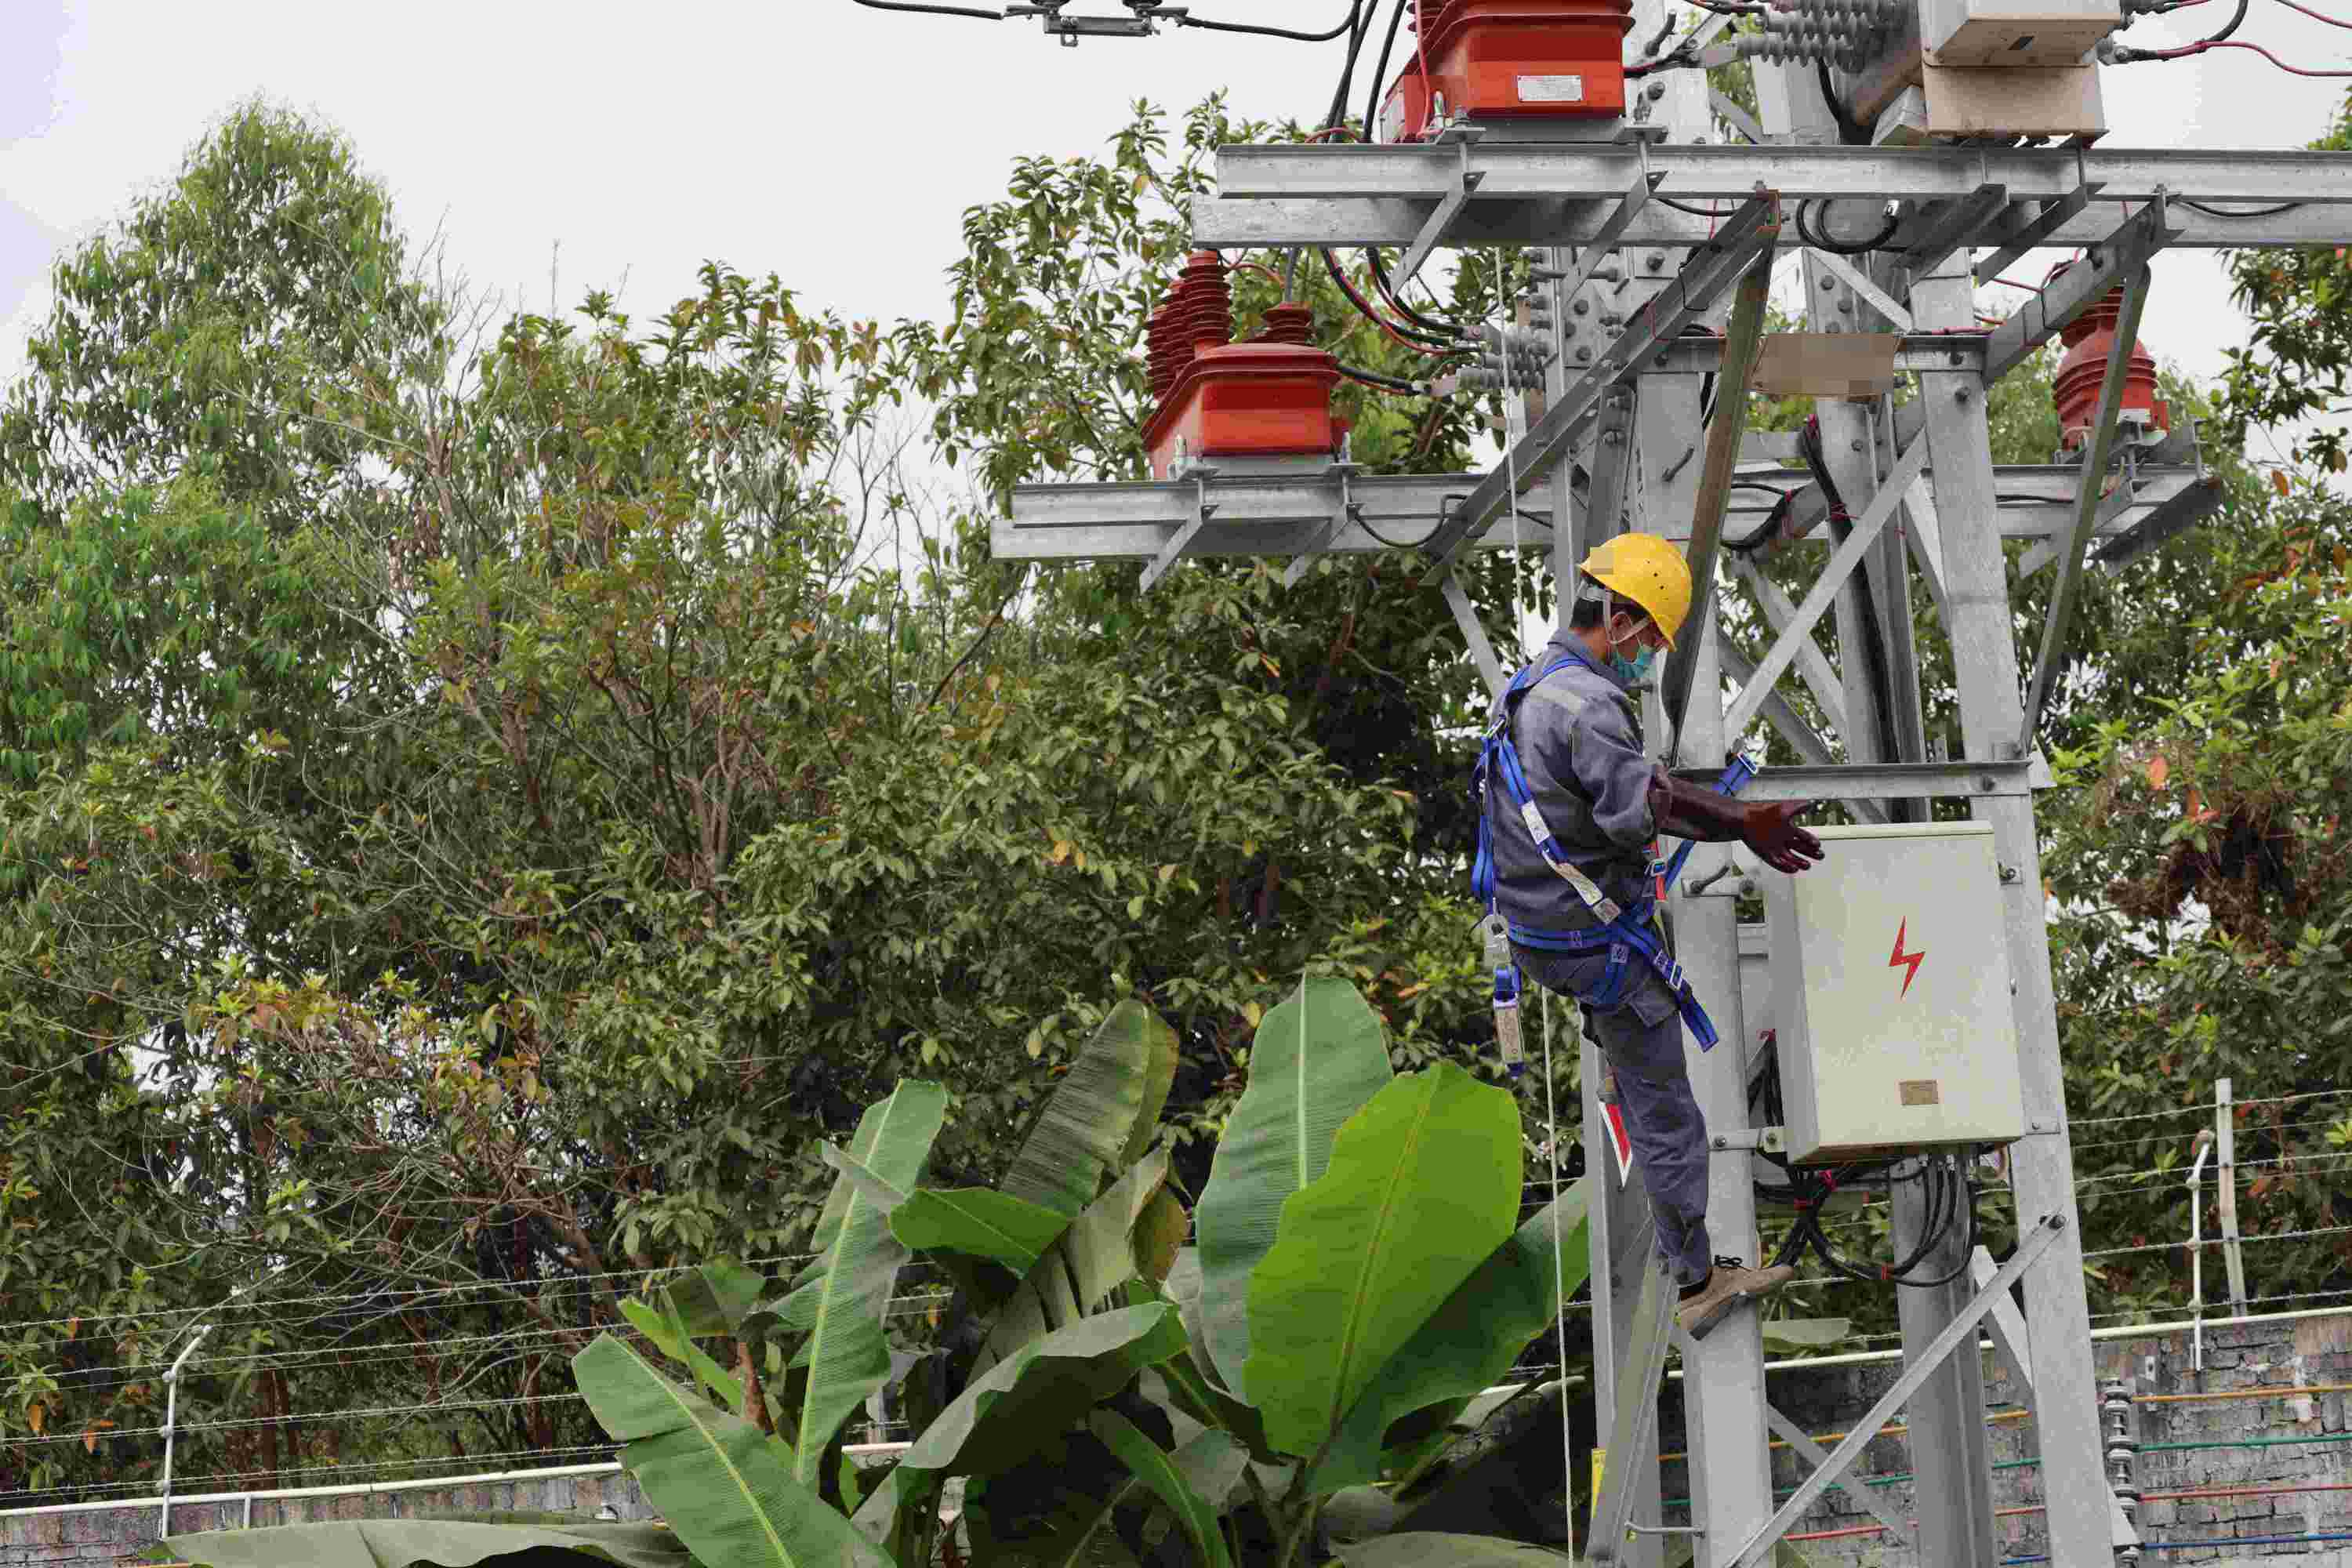downsuit: (1514, 924, 1722, 1272)
upsuit: (1479, 642, 1705, 921)
